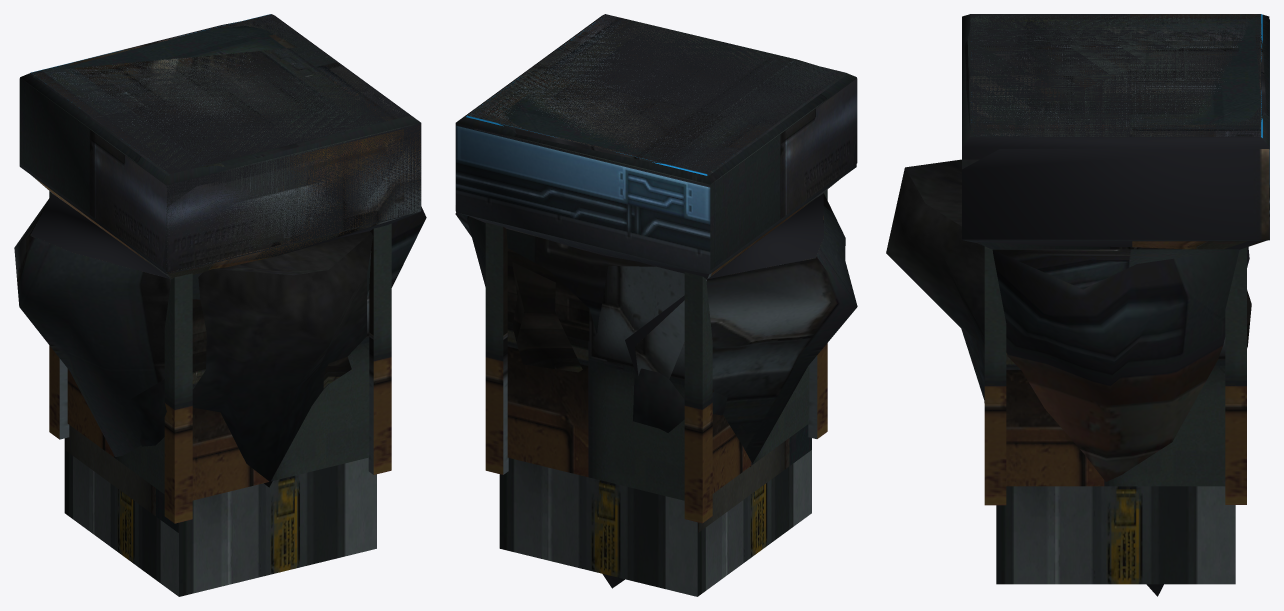
Rendered from ts_tsxxq000.FBX.
The picture shows the model from 3 angles, left to right: view 1: azimuth 30°, elevation 25°; view 2: azimuth 150°, elevation 25°; view 3: azimuth 270°, elevation 25°; orthographic projection. The views are drawn at different scales.
Visible parts, largest first — view 1: ts_tstz_tjx001, ts_tstz_cs000, ts_tstz_shx001, ts_tstz_ftx001, ts_tstz_fcs001, ts_tstz_yx002, ts_tstz_swx001, ts_tstz_fcs002, ts_tstz_hxx002, ts_tstz_yx001, ts_tstz_bosx001, ts_tstz_bxx001 (+3 smaller); view 2: ts_tstz_shx001, ts_tstz_fcs001, ts_tstz_cs000, ts_tstz_tjx001, ts_tstz_yx002, ts_tstz_ftx001, ts_tstz_swx001, ts_tstz_yx001, ts_tstz_bxx001, ts_tstz_bosx001, ts_tstz_ftx002, ts_tstz_hxx002 (+2 smaller); view 3: ts_tstz_fcs001, ts_tstz_ftx002, ts_tstz_tjx001, ts_tstz_shx001, ts_tstz_swx001, ts_tstz_bxx002, ts_tstz_ftx001, ts_tstz_cs000, ts_tstz_hxx002, ts_tstz_bosx001, ts_tstz_bxx001, ts_tstz_hxx001 (+2 smaller).
Boxes of the visible parts, bbox=[...] form: ts_tstz_tjx001: bbox=[32, 15, 421, 596]; ts_tstz_cs000: bbox=[19, 14, 420, 487]; ts_tstz_shx001: bbox=[49, 17, 391, 523]; ts_tstz_ftx001: bbox=[31, 14, 421, 273]; ts_tstz_fcs001: bbox=[19, 15, 426, 295]; ts_tstz_yx002: bbox=[14, 18, 421, 460]; ts_tstz_swx001: bbox=[20, 16, 420, 532]; ts_tstz_fcs002: bbox=[139, 71, 401, 272]; ts_tstz_hxx002: bbox=[35, 26, 404, 271]; ts_tstz_yx001: bbox=[36, 17, 421, 271]; ts_tstz_bosx001: bbox=[32, 15, 368, 388]; ts_tstz_bxx001: bbox=[51, 15, 409, 249]; ts_tstz_shx001: bbox=[468, 20, 838, 523]; ts_tstz_fcs001: bbox=[455, 14, 857, 333]; ts_tstz_cs000: bbox=[456, 18, 856, 588]; ts_tstz_tjx001: bbox=[455, 14, 827, 596]; ts_tstz_yx002: bbox=[543, 18, 857, 466]; ts_tstz_ftx001: bbox=[469, 15, 834, 365]; ts_tstz_swx001: bbox=[456, 16, 856, 532]; ts_tstz_yx001: bbox=[510, 17, 834, 223]; ts_tstz_bxx001: bbox=[456, 14, 841, 176]; ts_tstz_bosx001: bbox=[467, 17, 827, 372]; ts_tstz_ftx002: bbox=[524, 20, 823, 375]; ts_tstz_hxx002: bbox=[501, 17, 837, 276]; ts_tstz_fcs001: bbox=[970, 14, 1260, 481]; ts_tstz_ftx002: bbox=[962, 16, 1269, 267]; ts_tstz_tjx001: bbox=[962, 15, 1269, 584]; ts_tstz_shx001: bbox=[970, 14, 1260, 505]; ts_tstz_swx001: bbox=[962, 14, 1269, 146]; ts_tstz_bxx002: bbox=[971, 14, 1266, 136]; ts_tstz_ftx001: bbox=[970, 14, 1260, 136]; ts_tstz_cs000: bbox=[886, 14, 1269, 596]; ts_tstz_hxx002: bbox=[970, 14, 1260, 249]; ts_tstz_bosx001: bbox=[970, 14, 1260, 348]; ts_tstz_bxx001: bbox=[970, 14, 1260, 136]; ts_tstz_hxx001: bbox=[970, 14, 1260, 136].
Size of the model in its own units: 4.75 by 5.48 by 3.75.
